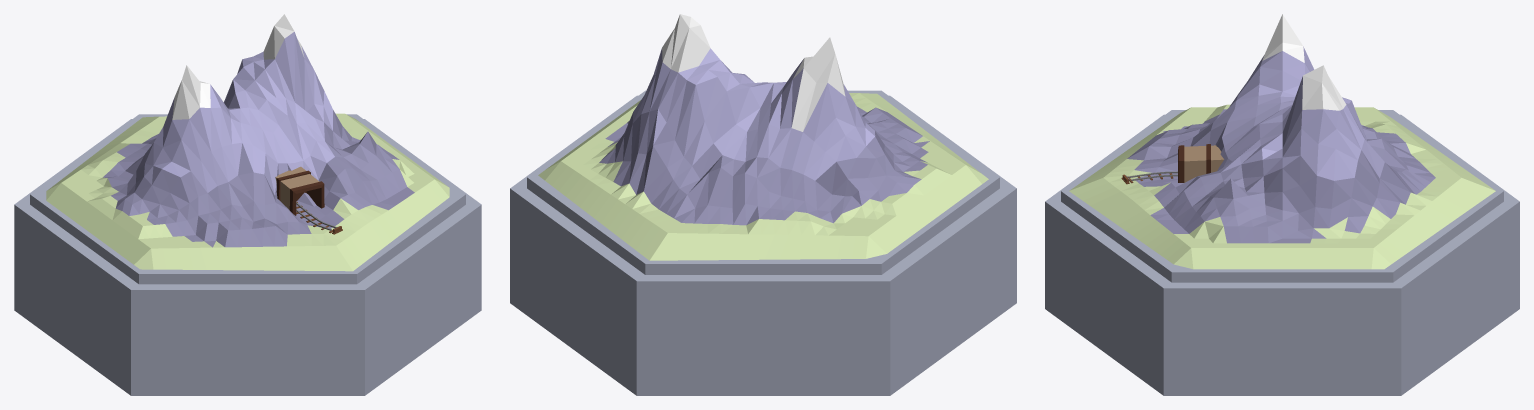
Rendered from fbx_mountain.fbx.
The picture shows the model from 3 angles, left to right: view 1: azimuth 30°, elevation 25°; view 2: azimuth 150°, elevation 25°; view 3: azimuth 270°, elevation 25°; orthographic projection. The views are drawn at different scales.
Visible parts, largest first — view 1: Mountains, Mountain, Mine Entrance; view 2: Mountains, Mountain; view 3: Mountains, Mountain, Mine Entrance.
Boxes of the visible parts, box(x1,y1,x2,y2) form: Mountains: box(14, 114, 481, 395); Mountain: box(46, 14, 449, 271); Mine Entrance: box(275, 166, 324, 215); Mountains: box(510, 90, 1016, 395); Mountain: box(538, 14, 988, 260); Mountains: box(1045, 110, 1519, 395); Mountain: box(1069, 14, 1495, 269); Mine Entrance: box(1178, 144, 1224, 182).
Size of the model in its own units: 173 by 126 by 200.
